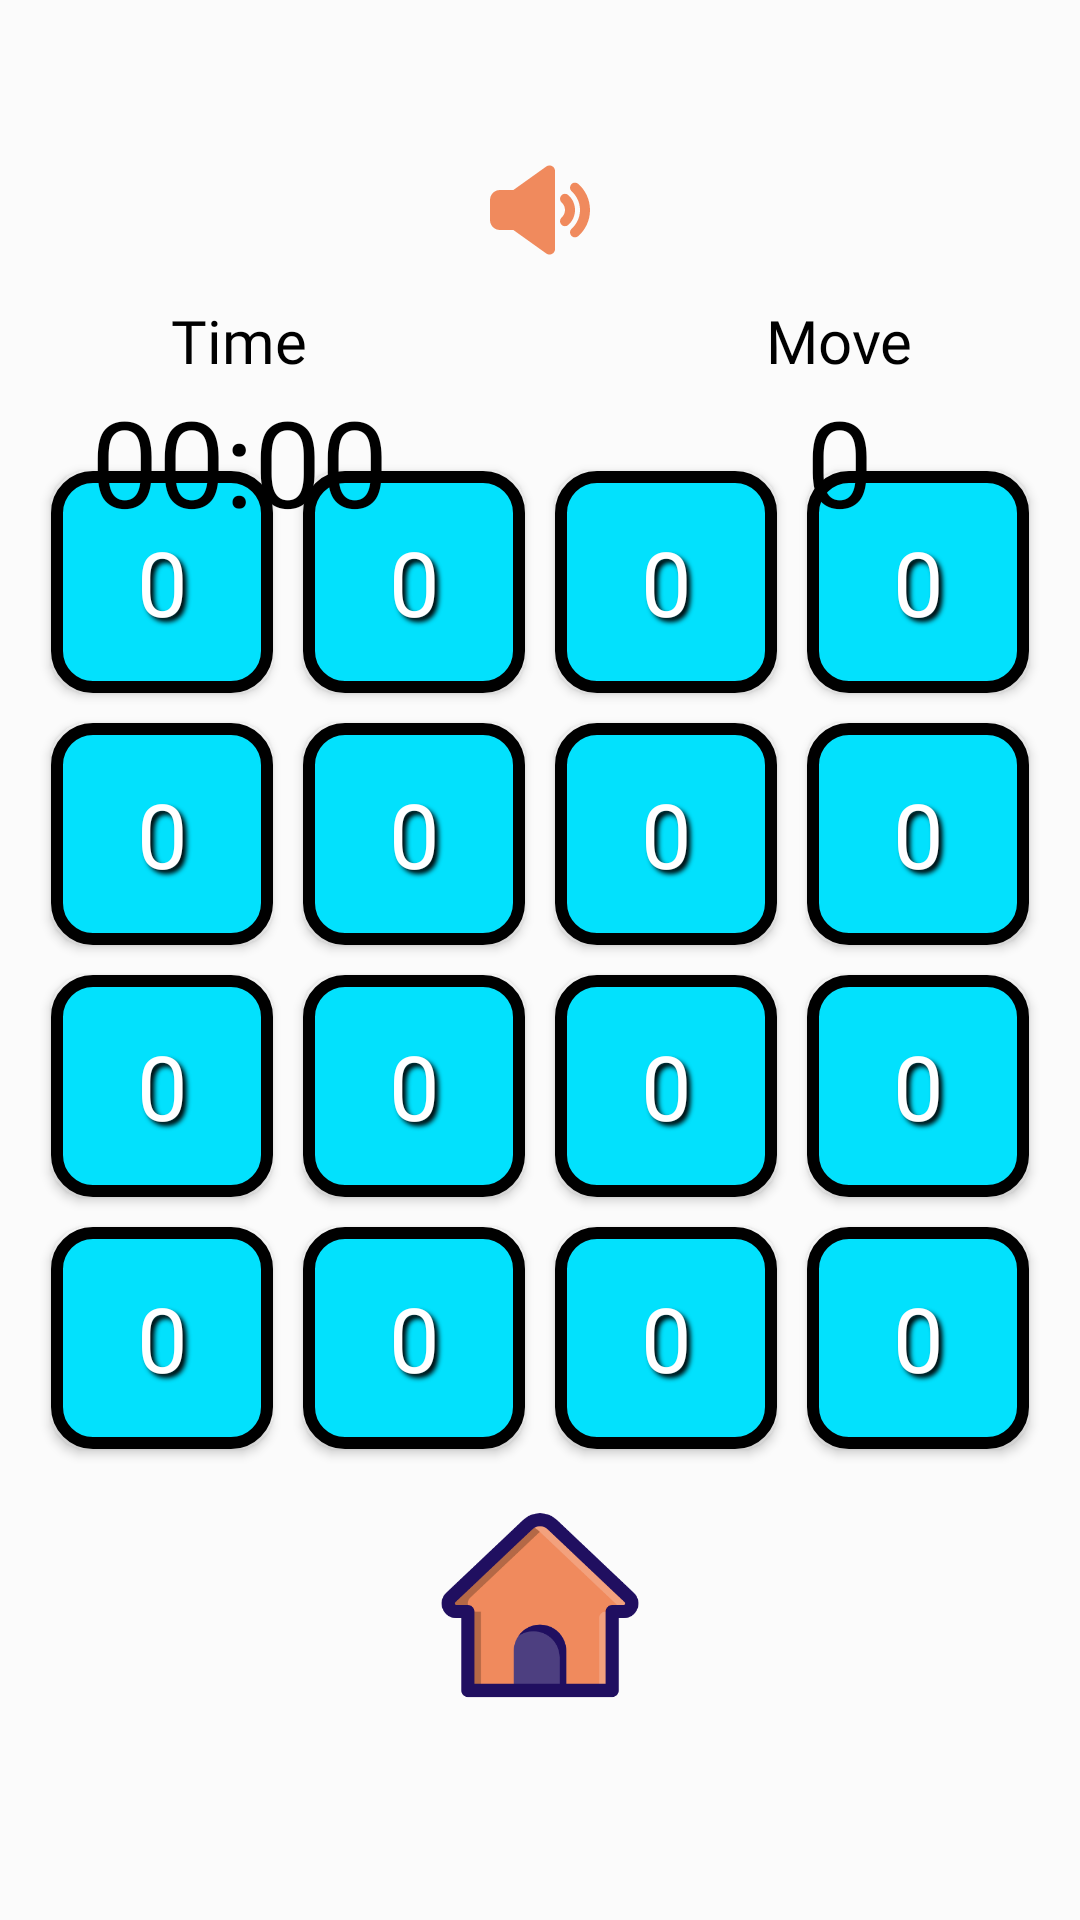

Icons on this 1080w x 1920h Android screen, each with the point to tap as (x,y):
home: (540,1605)
volume: (540,210)
